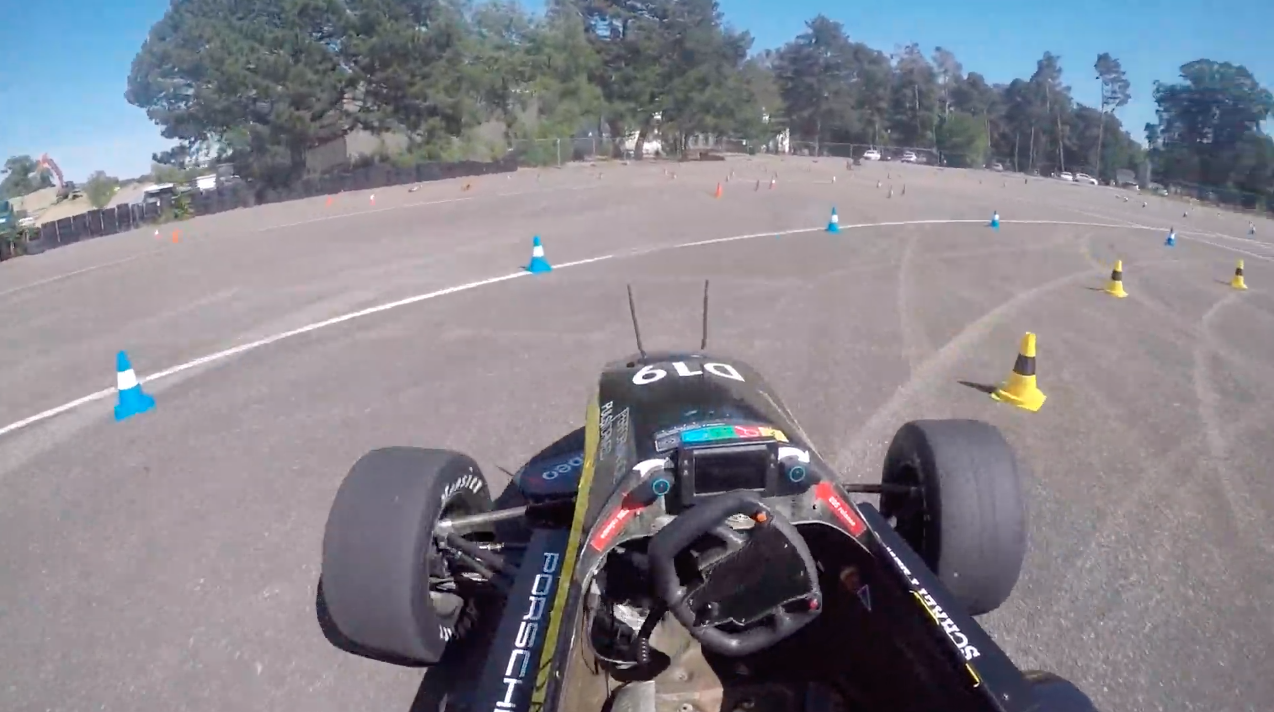lcone: (105, 349, 160, 426), (522, 231, 558, 277), (822, 204, 846, 237)
rcone: (985, 328, 1053, 415), (1097, 255, 1132, 300)
